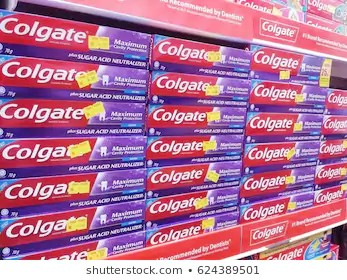colgate-medium: (1, 11, 150, 71), (1, 201, 146, 255), (1, 167, 148, 220), (1, 55, 151, 102), (1, 136, 148, 180), (1, 97, 151, 139), (149, 184, 244, 227), (146, 161, 241, 200), (152, 32, 252, 69), (146, 211, 241, 249), (149, 105, 248, 138), (147, 135, 245, 167), (152, 74, 252, 103), (253, 43, 333, 79), (244, 112, 324, 147), (240, 168, 316, 201), (244, 140, 320, 171), (243, 193, 314, 224), (251, 84, 324, 113)
